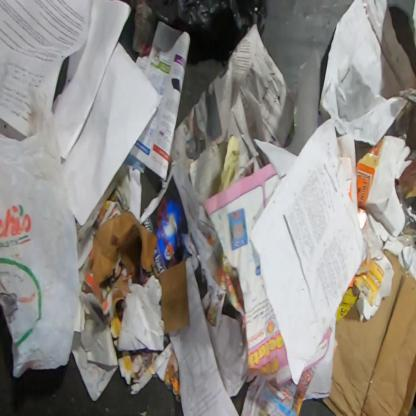cardboard: (322, 249, 415, 415), (335, 257, 385, 323), (354, 133, 385, 208), (397, 155, 416, 200)
soft_plastic: (0, 84, 80, 376), (145, 0, 268, 65), (395, 185, 416, 250)
